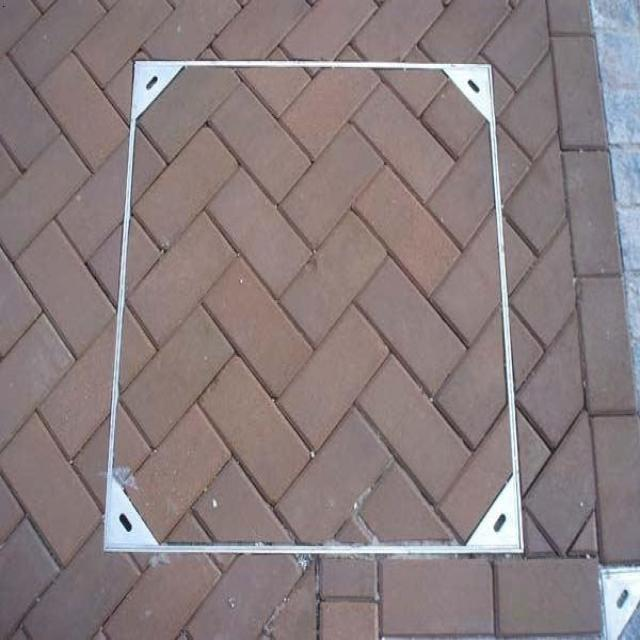manhole: (104, 60, 524, 554)
